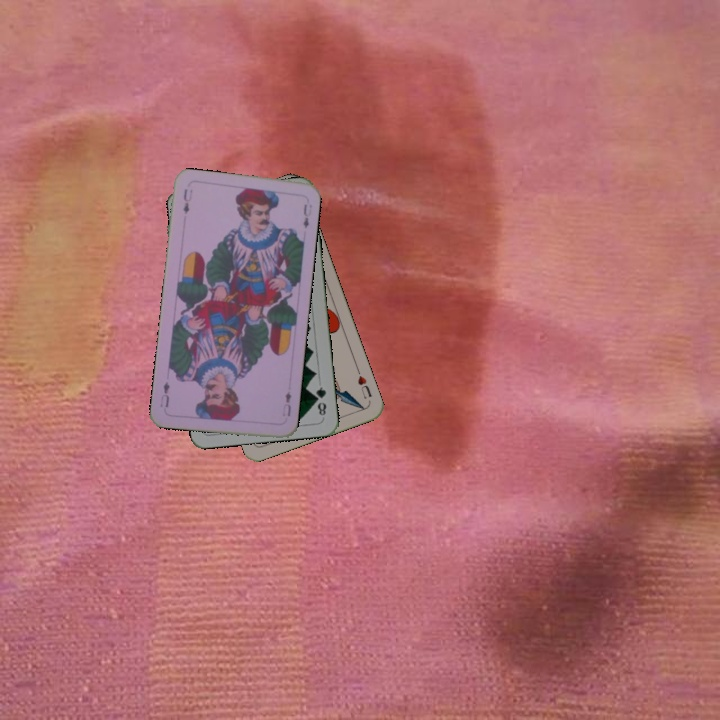EU: (179, 185, 195, 216), (279, 387, 294, 419)
G8: (311, 383, 329, 418)
HU: (353, 365, 374, 402)
